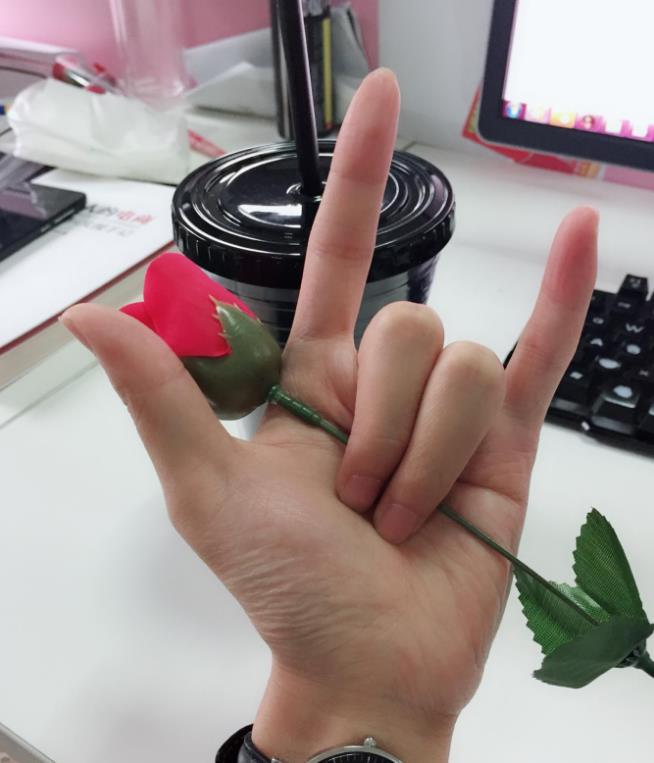back: (50, 59, 605, 708)
